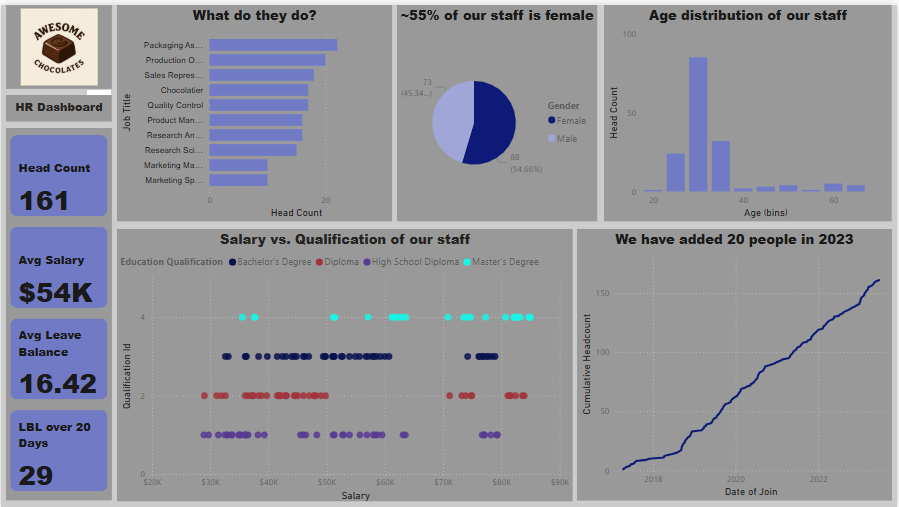

Layout of this report page (visuals, bound fields, positions):
{"tool":"powerbi","page":{"name":"HR Dashboard","canvas":[1280,720],"ordinal":9},"visuals":[{"type":"cardVisual","fields":{"Data":["staff.Head Count","staff.Avg Salary","staff.Avg Leave Balance","staff.LBL over 20 Days"]},"box":[7.1,176.4,151.2,532.2],"z":0},{"type":"barChart","title":"What do they do?","fields":{"Category":["staff.Job Title"],"Y":["staff.Head Count"]},"box":[165.3,0,393.1,309.4],"z":1000},{"type":"pieChart","title":"~55% of our staff is female","fields":{"Y":["staff.Head Count"],"Category":["staff.Gender"]},"box":[566.4,0,286.2,309.4],"z":2000},{"type":"clusteredColumnChart","title":"Age distribution of our staff","fields":{"Category":["staff.Age (bins)"],"Y":["staff.Head Count"]},"box":[860.7,0,411.2,309.4],"z":3000},{"type":"scatterChart","title":"Salary vs. Qualification of our staff","fields":{"X":["staff.Salary"],"Y":["Qual.Qualification Id"],"Series":["staff.Education Qualification"]},"box":[165.3,320.5,652.1,388],"z":4000},{"type":"lineChart","title":"We have added 20 people in 2023","fields":{"Y":["staff.Cumulative Headcount"],"Category":["staff.Date of Join"]},"box":[822.4,320.5,449.5,388],"z":4001},{"type":"image","box":[7.1,0,151.2,119.9],"z":4002},{"type":"textbox","box":[7.1,129,151.2,38.3],"z":4003}]}

Visuals, with their boxes in screenshot pixels (x1, y1, x2, y2), scaled from the page's 1280x720 canvas onto the 899x507 screenshot:
cardVisual - staff.Head Count x staff.Avg Salary: bbox(5, 124, 111, 499)
"What do they do?" barChart: bbox(116, 0, 392, 218)
"~55% of our staff is female" pieChart: bbox(398, 0, 599, 218)
"Age distribution of our staff" clusteredColumnChart: bbox(605, 0, 893, 218)
"Salary vs. Qualification of our staff" scatterChart: bbox(116, 226, 574, 499)
"We have added 20 people in 2023" lineChart: bbox(578, 226, 893, 499)
image: bbox(5, 0, 111, 84)
textbox: bbox(5, 91, 111, 118)
